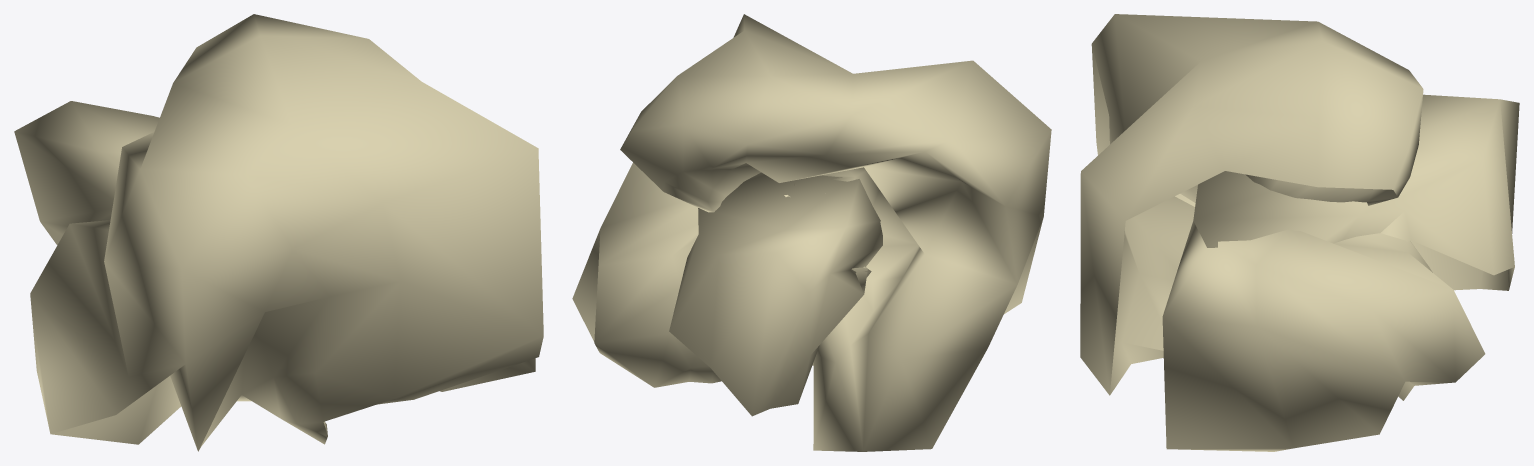
The model's file is beige-paper.glb.
3 views of the same model, side by side, from view 1: azimuth 30°, elevation 25°; view 2: azimuth 150°, elevation 25°; view 3: azimuth 270°, elevation 25° (orthographic). The views are drawn at different scales.
Visible parts, largest first — view 1: Crumpled Paper 010; view 2: Crumpled Paper 010; view 3: Crumpled Paper 010.
Boxes of the visible parts, bbox=[...] form: Crumpled Paper 010: bbox=[14, 14, 543, 451]; Crumpled Paper 010: bbox=[572, 14, 1051, 451]; Crumpled Paper 010: bbox=[1080, 14, 1519, 451].
Bounding box in the file's own units: 1.76 × 1.57 × 1.7.
